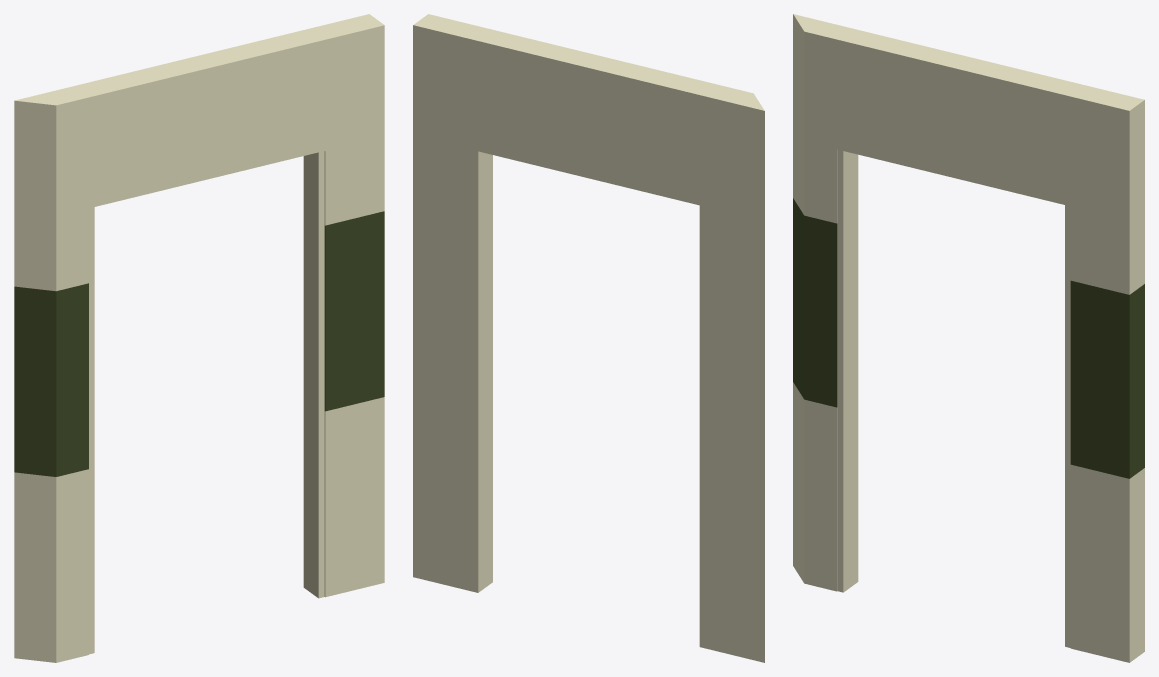
Rendered from InteriorWall_Door_L45_ExportPrep.gltf.
3 views of the same model, side by side, from view 1: azimuth 30°, elevation 25°; view 2: azimuth 150°, elevation 25°; view 3: azimuth 330°, elevation 25° (orthographic).
Parts seen in each view (by area): view 1: InteriorWall_Door_L45; view 2: InteriorWall_Door_L45; view 3: InteriorWall_Door_L45.
Boxes of the visible parts, box(x1,y1,x2,y2) form: InteriorWall_Door_L45: box(14, 14, 384, 662); InteriorWall_Door_L45: box(413, 14, 764, 662); InteriorWall_Door_L45: box(793, 14, 1144, 662).
Size of the model in its own units: 2 by 3 by 0.15.
